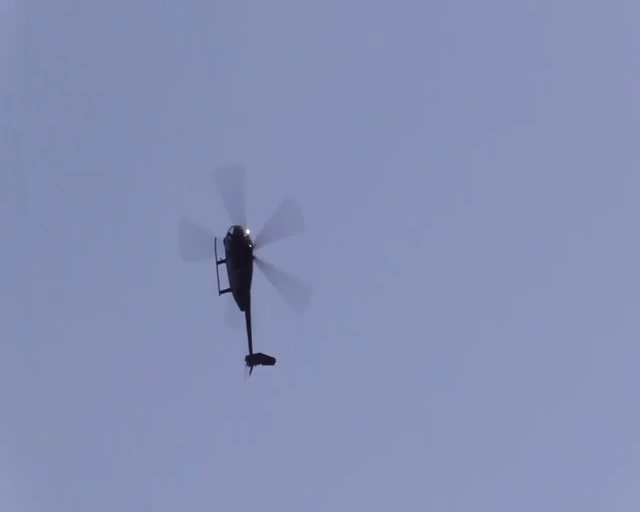HELICOPTER: (179, 164, 316, 380)
